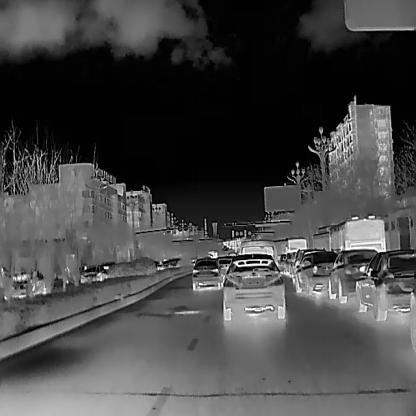car: (352, 249, 415, 321), (221, 253, 285, 320), (326, 249, 380, 303), (311, 214, 384, 249), (293, 249, 337, 295), (5, 270, 48, 298), (191, 256, 220, 289), (236, 238, 275, 254), (78, 263, 106, 282), (275, 237, 306, 253)
